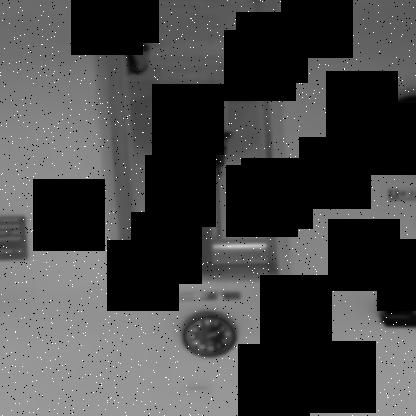Porte: (85, 0, 292, 290)
